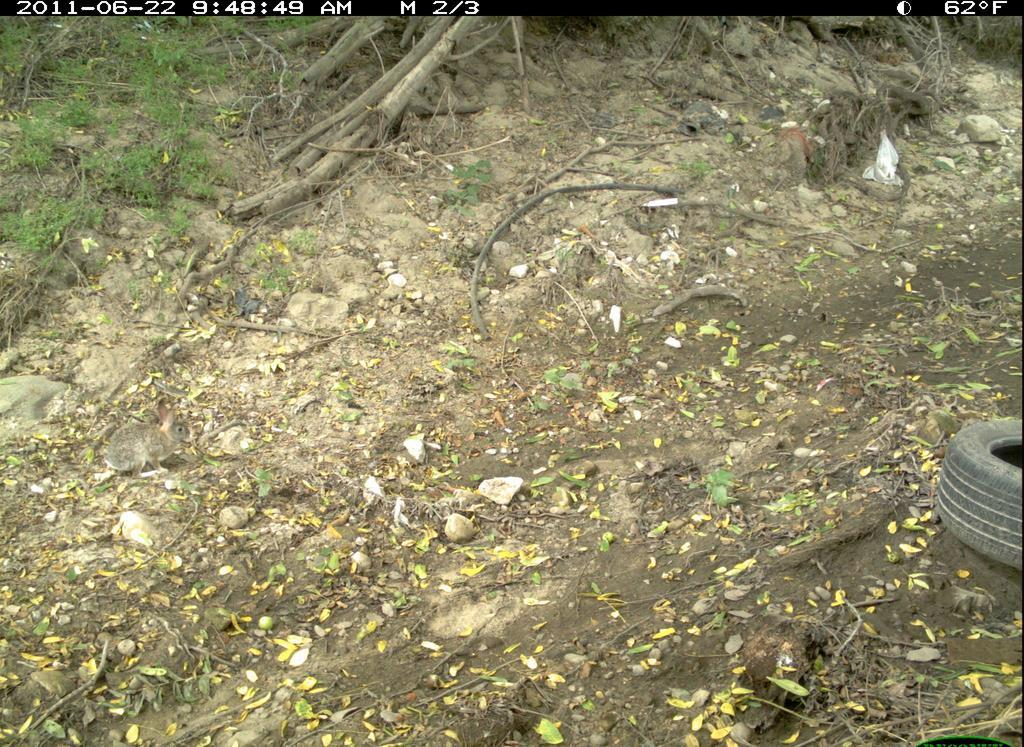rabbit: (98, 396, 196, 479)
